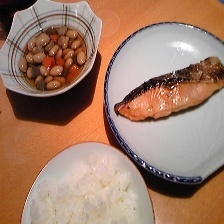rice: (24, 163, 143, 222)
